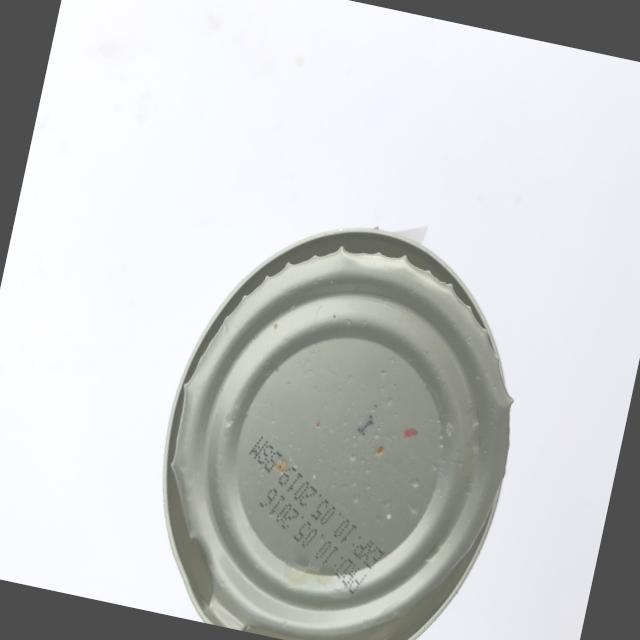Metal: (117, 158, 594, 640)
